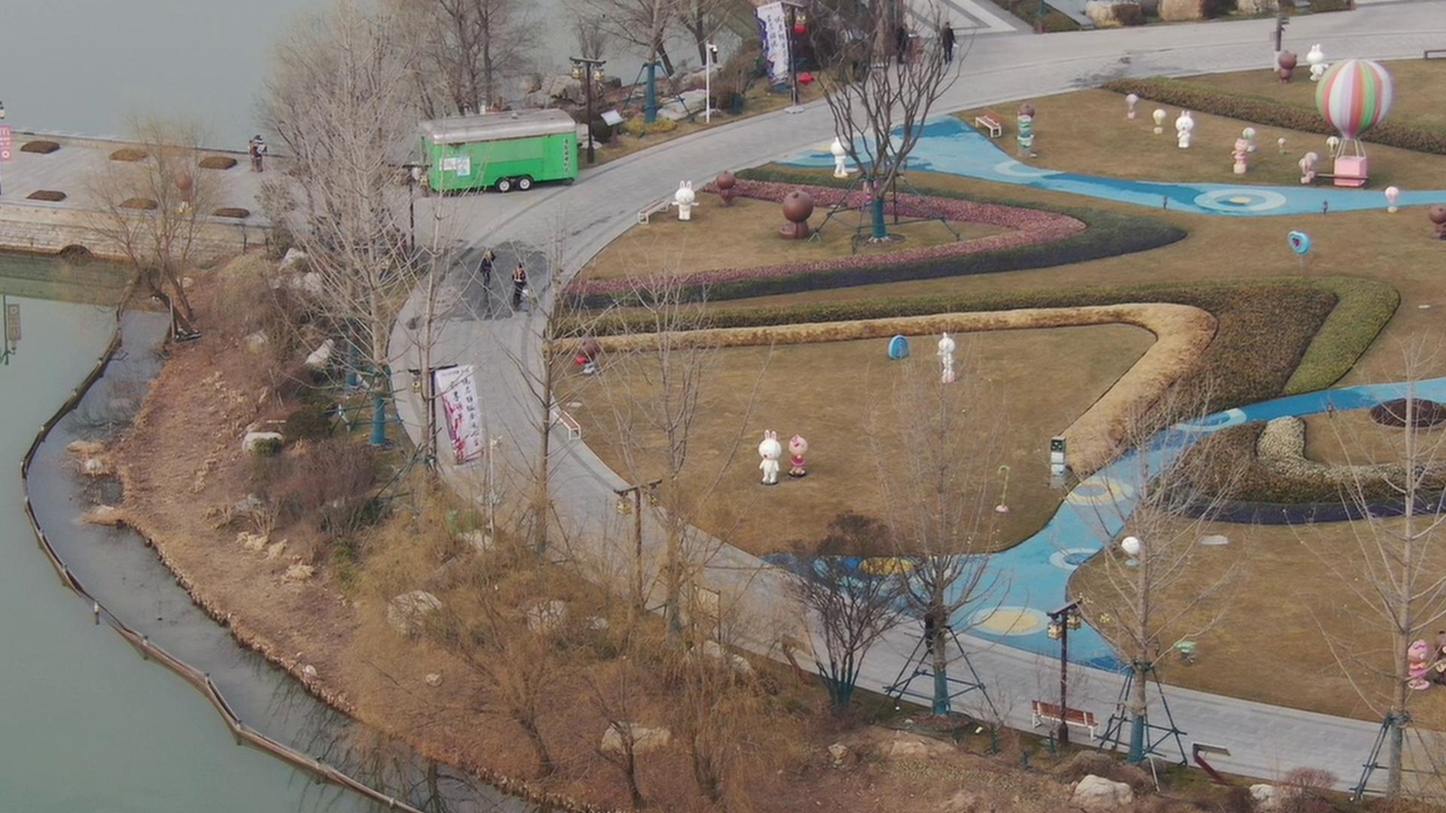class_2: (915, 592, 944, 659)
human: (929, 20, 958, 73), (506, 251, 527, 309), (474, 245, 496, 296)
